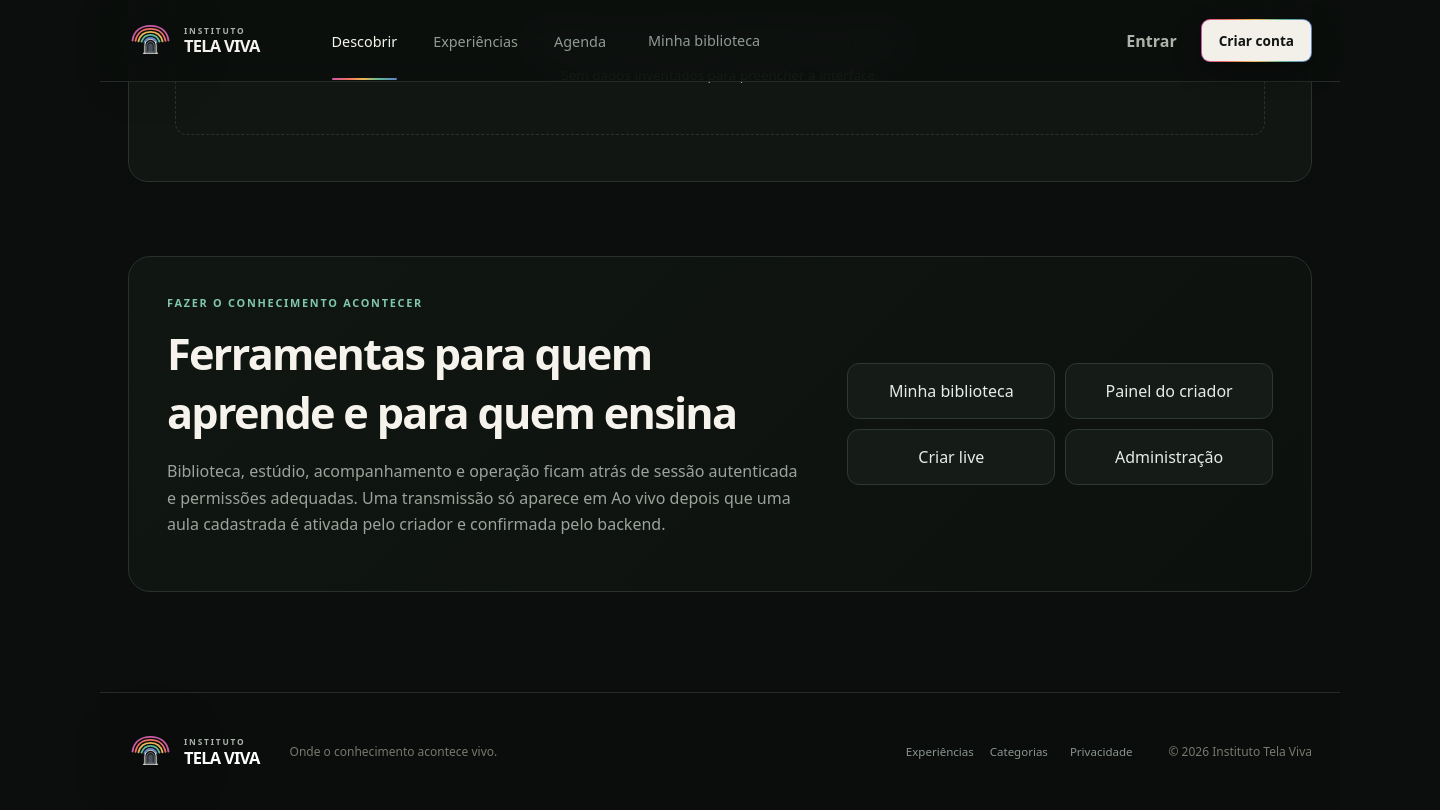
Test: Estúdio de transmissão › não abre o estúdio sem uma fonte oficial de aulas
(page scrolled)
Click the button "Criar live": (951, 457) [847,429,1055,485]
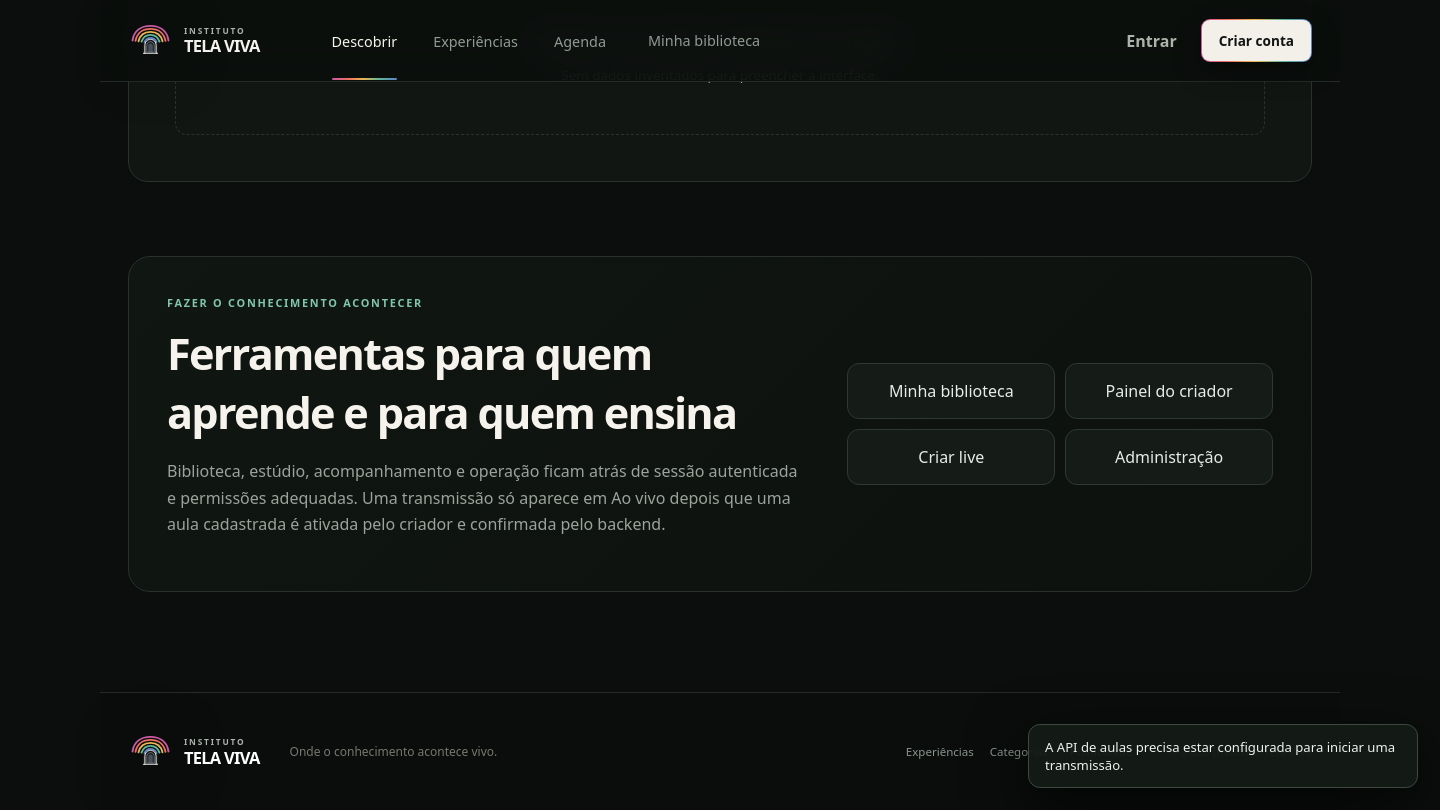
Check: the text "A API de aulas precisa estar configurada para iniciar uma transmissão." is shown, box [1028,724,1418,788]
